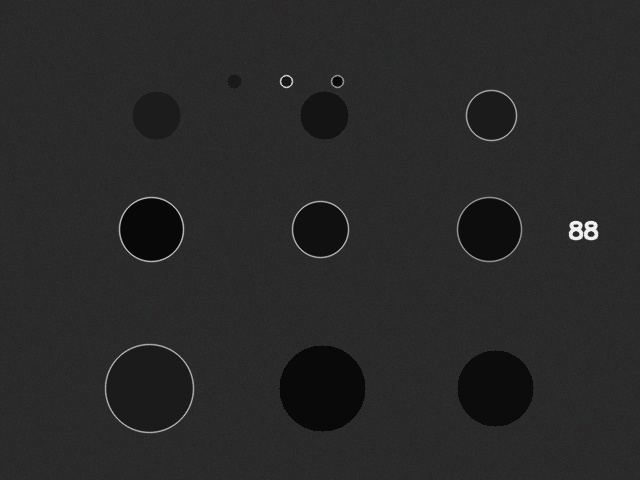hole: (105, 344, 193, 432), (279, 345, 365, 431), (457, 350, 533, 426), (119, 197, 183, 261), (457, 197, 521, 261), (292, 201, 348, 257), (466, 90, 516, 140), (132, 91, 180, 139), (300, 91, 348, 139), (227, 74, 241, 88), (280, 75, 292, 87), (331, 75, 343, 87)
